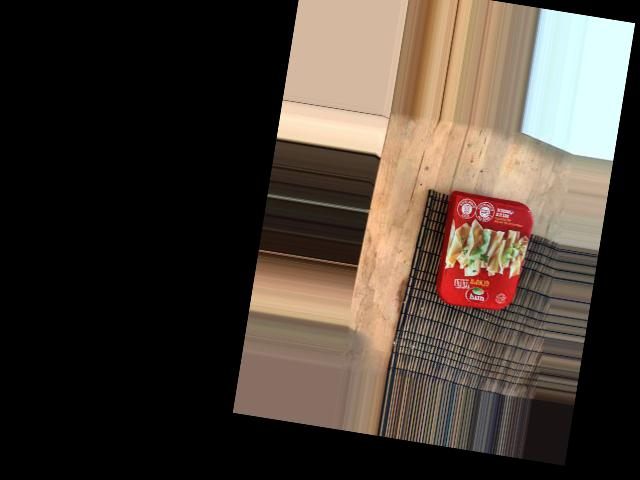cheese: (417, 272, 575, 375)
